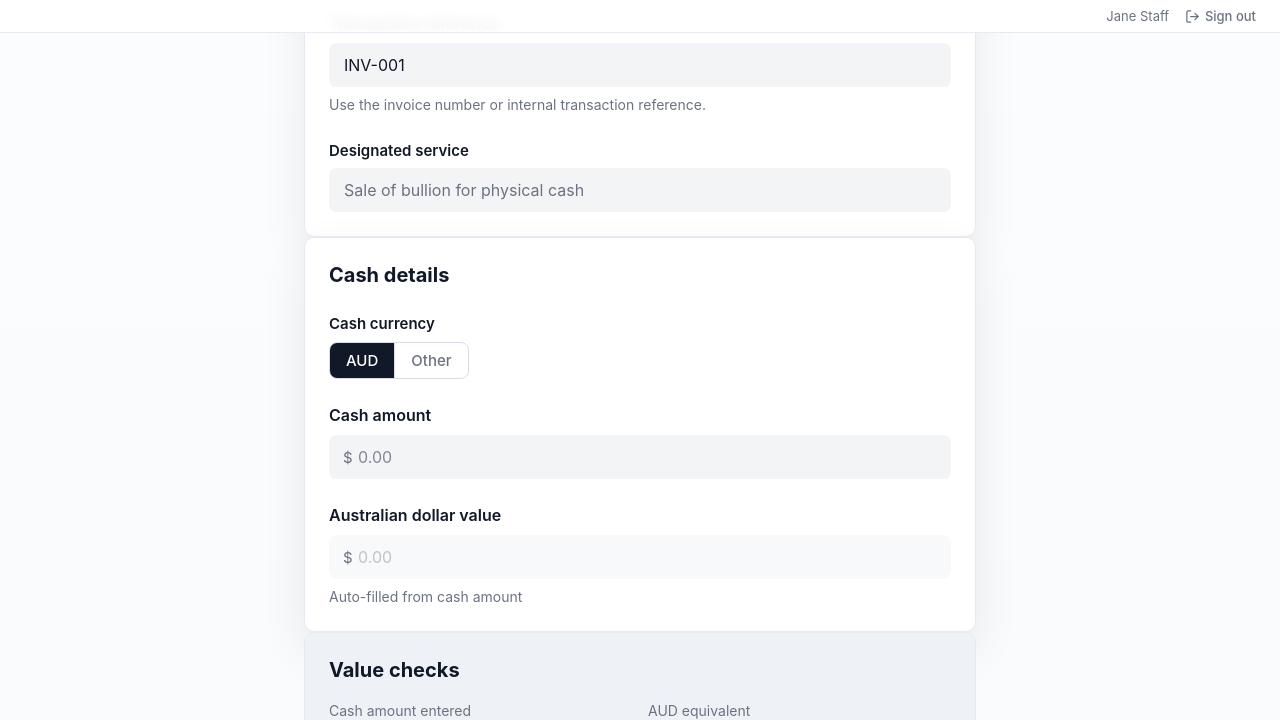
Test: TransactionDetailsPage › shows validation errors for all FX fields when foreign currency is selected and fields are empty
This screenshot has width=1280, height=720.
(page scrolled)
Click the button "Other" at (431, 360), box x1=394 y1=343 x2=468 y2=378
(page scrolled)
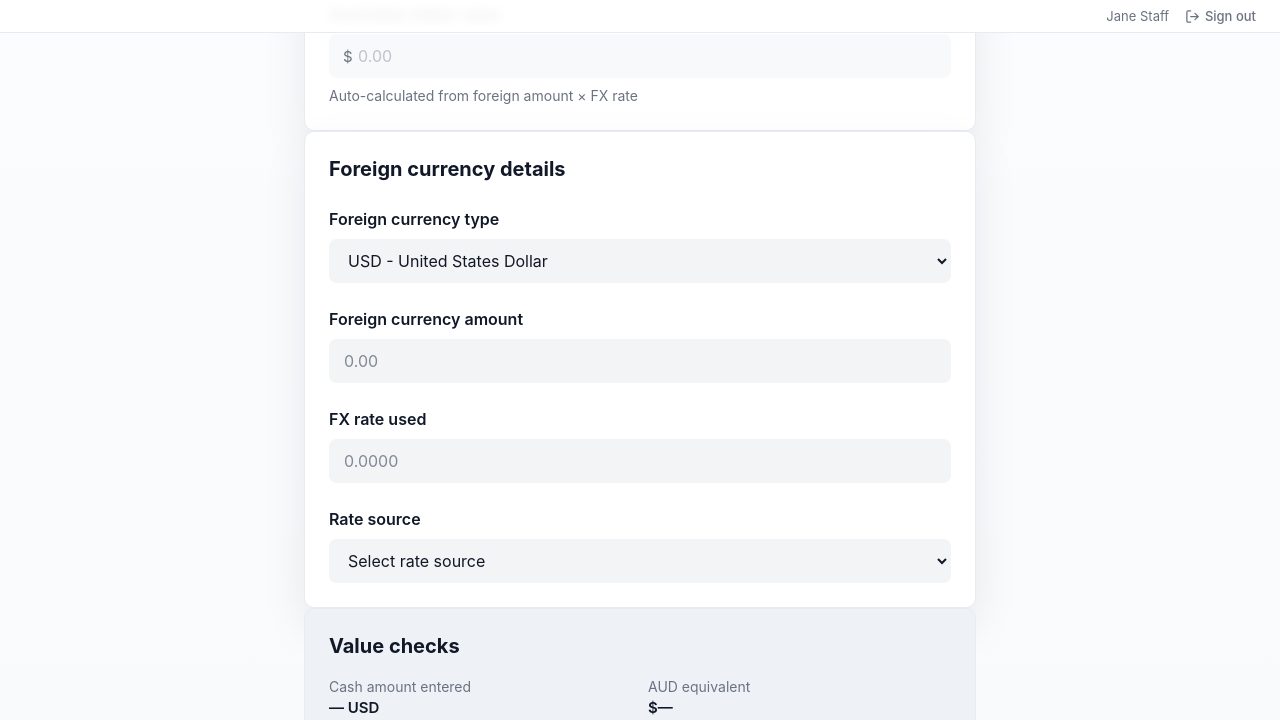
# Fill amount + rate only enough to clear the $10,000 continue-button gate, leave rate source blank.
Type "10000" into the number field labelled "Foreign currency amount" at (640, 361), box x1=329 y1=339 x2=951 y2=383
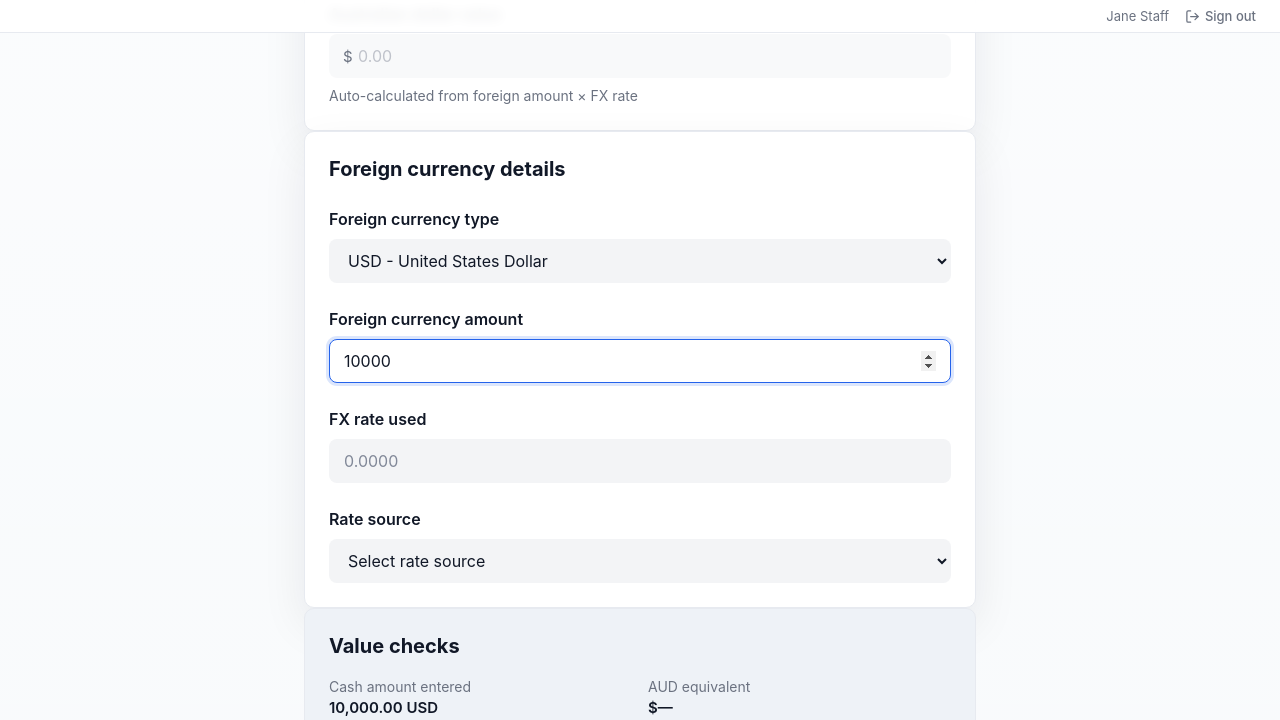
Type "1" into the number field labelled "FX rate used" at (640, 461), box x1=329 y1=439 x2=951 y2=483
(page scrolled)
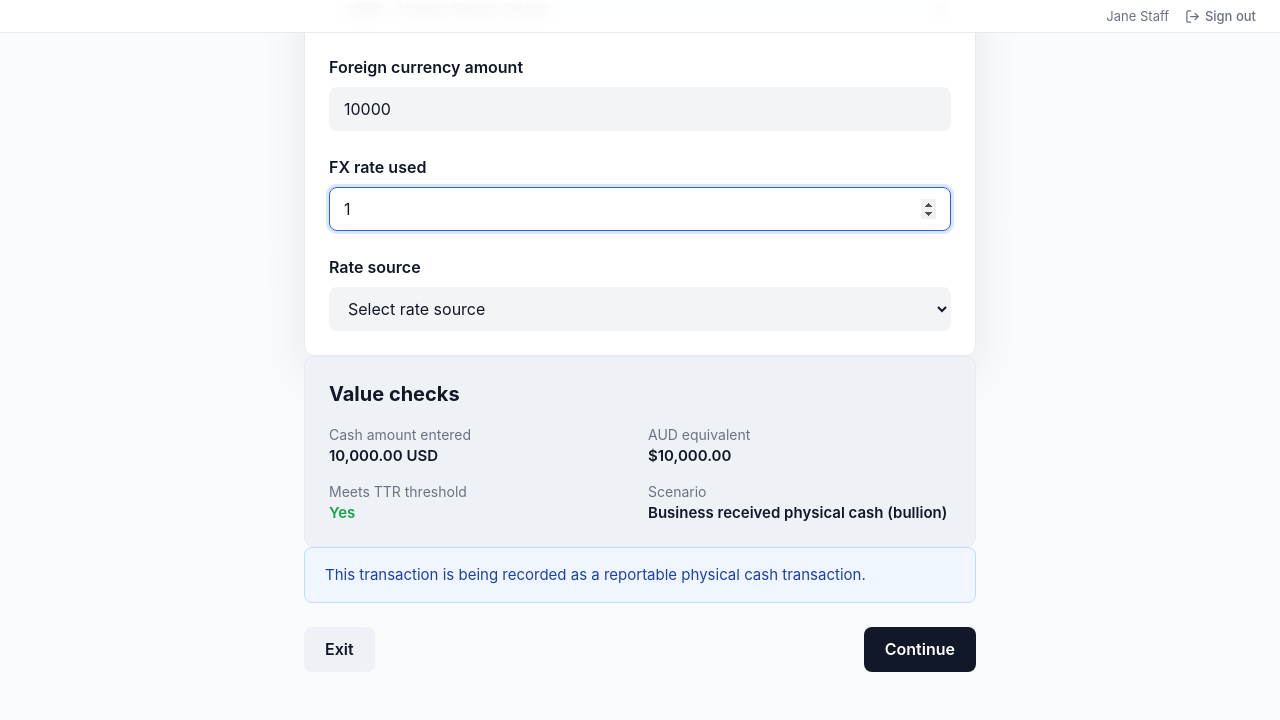
Check: the button "Continue" is enabled
Click the button "Continue" at (920, 650), box x1=864 y1=627 x2=976 y2=672
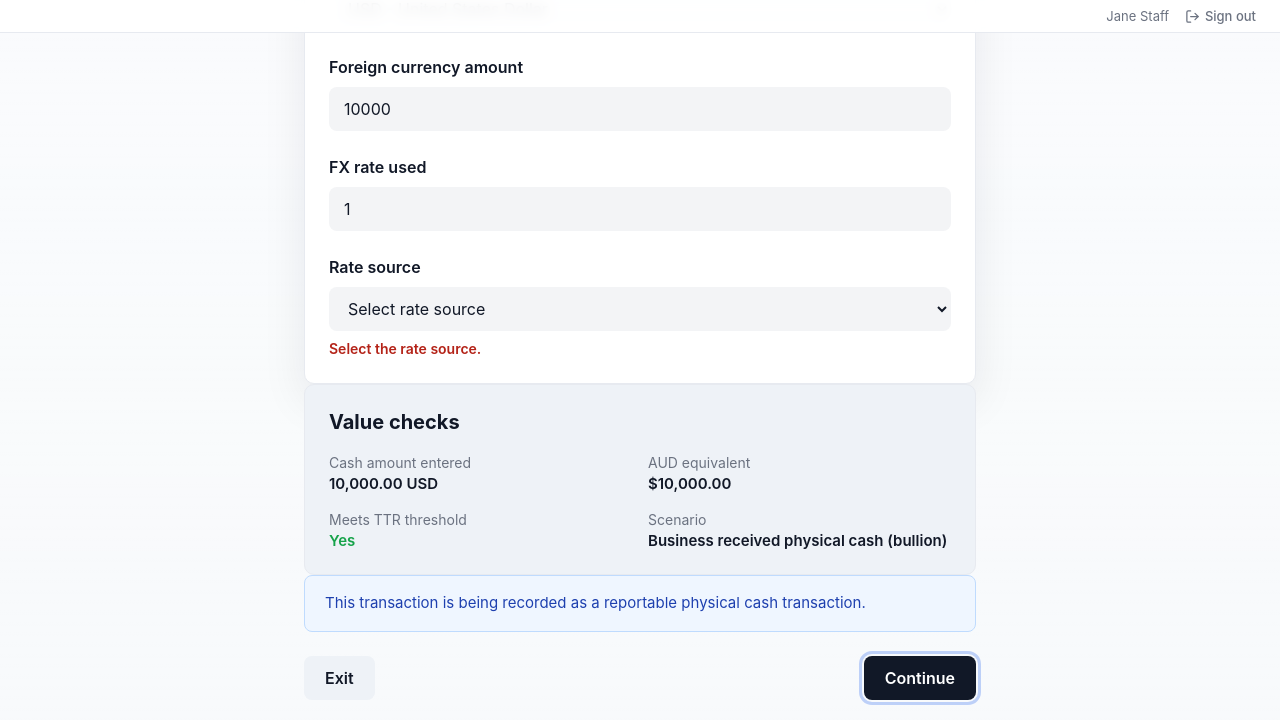
Check: the text "Select the rate source." is shown, box x1=329 y1=340 x2=481 y2=357
